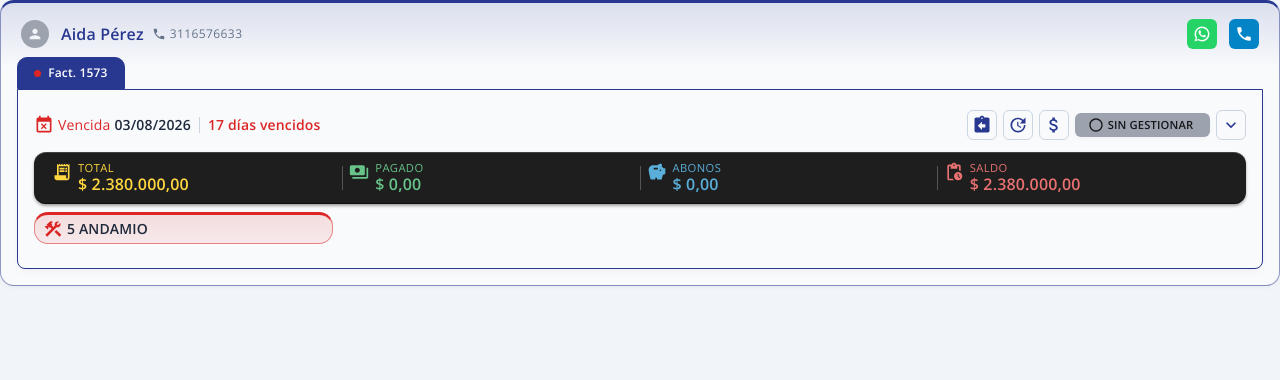
Test: ClienteSeguimientoCard — lo que muestra › cada equipo dice cuanto cuestan sus dias vencidos
The width and height of the screenshot is (1280, 380).
Click the button named "Mostrar factura" at (1231, 125), box top-left (1216, 110), bottom-right (1246, 140)
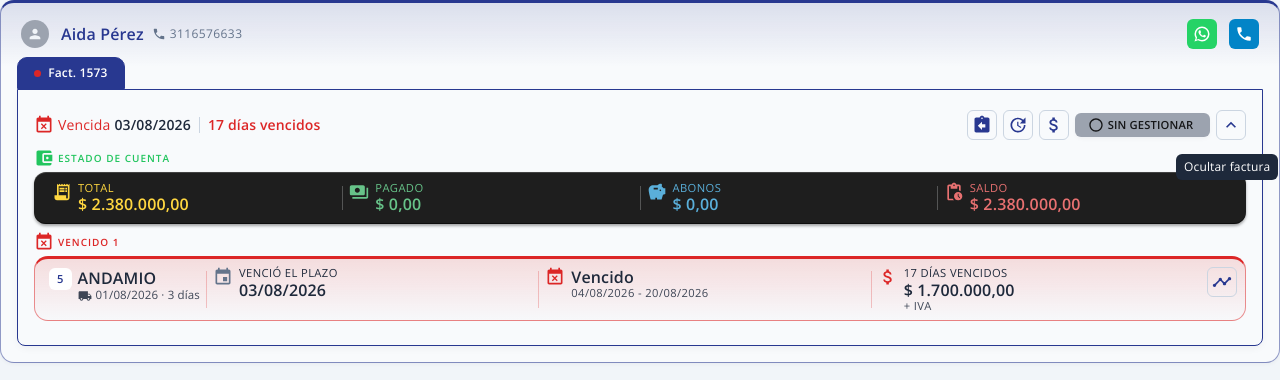
Expected: the text "$ 1.700.000,00" is shown, top-left (904, 280), bottom-right (1014, 300)
Expected: the text "+ IVA" is shown, top-left (904, 298), bottom-right (932, 313)
